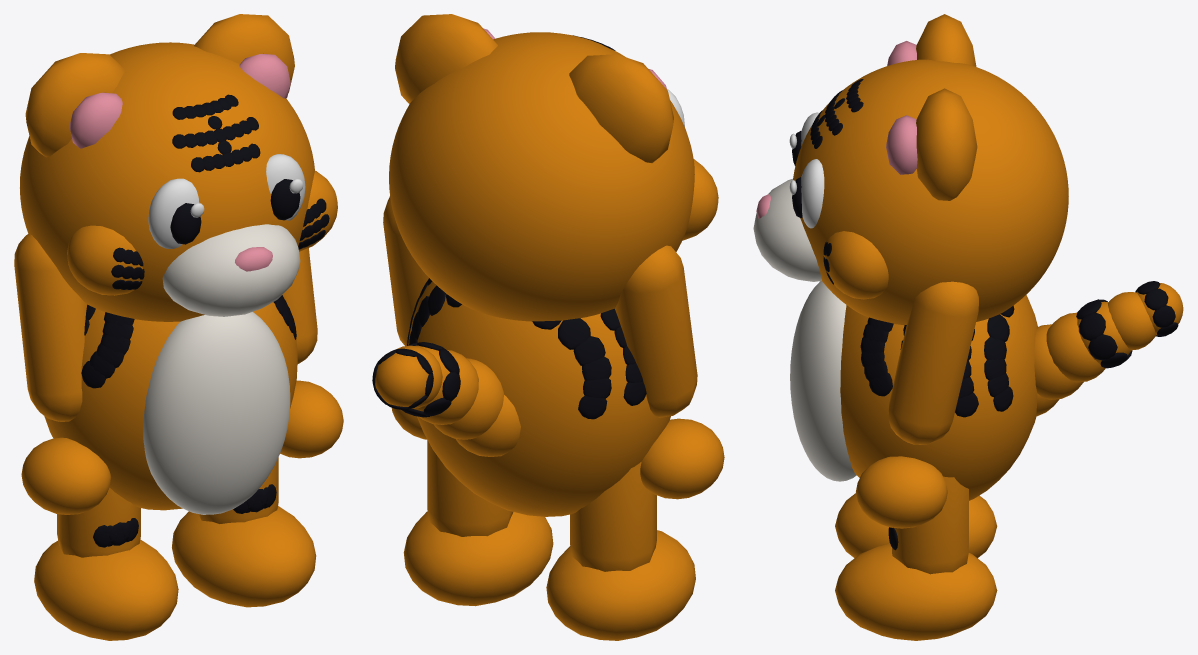
File: tiger.glb
3 renders of one model, left to right at view 1: azimuth 30°, elevation 25°; view 2: azimuth 150°, elevation 25°; view 3: azimuth 270°, elevation 25°, orthographic. The views are drawn at different scales.
Visible parts, largest first — view 1: tiger; view 2: tiger; view 3: tiger.
Part boxes in pixels (x1=…): tiger: x1=14, y1=14, x2=343, y2=640; tiger: x1=372, y1=14, x2=724, y2=640; tiger: x1=753, y1=14, x2=1183, y2=640.
Bounding box in the file's own units: 0.6529 × 1.15 × 0.8234.
